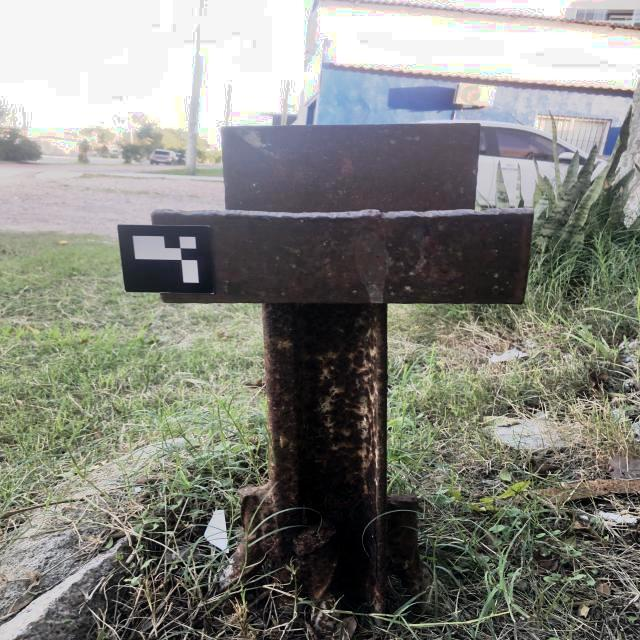Corrosion: (150, 123, 534, 633)
